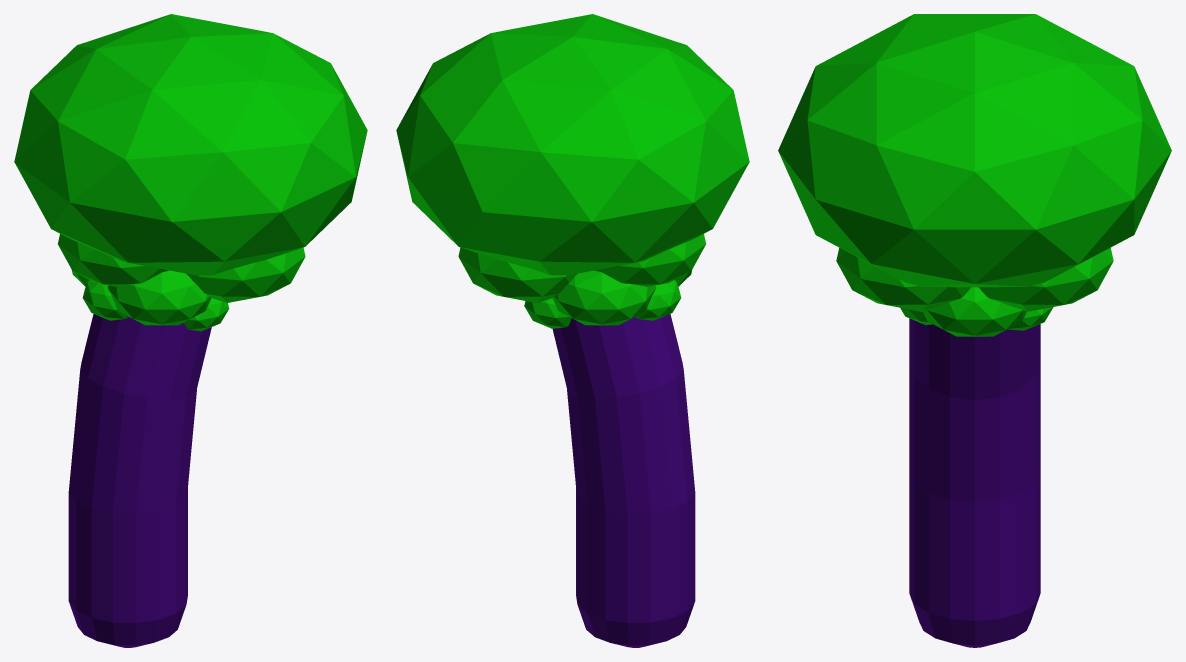
File: Eggplant Tree.fbx
3 renders of one model, left to right at view 1: azimuth 30°, elevation 25°; view 2: azimuth 150°, elevation 25°; view 3: azimuth 270°, elevation 25°, orthographic. The views are drawn at different scales.
Visible parts, largest first — view 1: Icosphere, Cylinder, Icosphere.009, Icosphere.005, Icosphere.001, Icosphere.002, Icosphere.004; view 2: Icosphere, Cylinder, Icosphere.008, Icosphere.006, Icosphere.001, Icosphere.002, Icosphere.003; view 3: Icosphere, Cylinder, Icosphere.005, Icosphere.006, Icosphere.007.
Boxes of the visible parts, x1=… form: Icosphere: x1=14, y1=14, x2=367, y2=275; Cylinder: x1=68, y1=314, x2=211, y2=647; Icosphere.009: x1=108, y1=270, x2=211, y2=325; Icosphere.005: x1=186, y1=247, x2=305, y2=302; Icosphere.001: x1=58, y1=234, x2=168, y2=286; Icosphere.002: x1=82, y1=280, x2=128, y2=320; Icosphere.004: x1=183, y1=298, x2=229, y2=331; Icosphere: x1=396, y1=14, x2=749, y2=275; Cylinder: x1=552, y1=314, x2=695, y2=647; Icosphere.008: x1=552, y1=270, x2=655, y2=325; Icosphere.006: x1=458, y1=247, x2=577, y2=302; Icosphere.001: x1=595, y1=234, x2=705, y2=286; Icosphere.002: x1=635, y1=280, x2=681, y2=320; Icosphere.003: x1=524, y1=298, x2=571, y2=328; Icosphere: x1=778, y1=14, x2=1171, y2=287; Cylinder: x1=909, y1=318, x2=1040, y2=647; Icosphere.005: x1=836, y1=248, x2=970, y2=311; Icosphere.006: x1=979, y1=248, x2=1113, y2=311; Icosphere.007: x1=923, y1=287, x2=1026, y2=336.
Bounding box in the file's own units: 571 × 1080 × 600.
